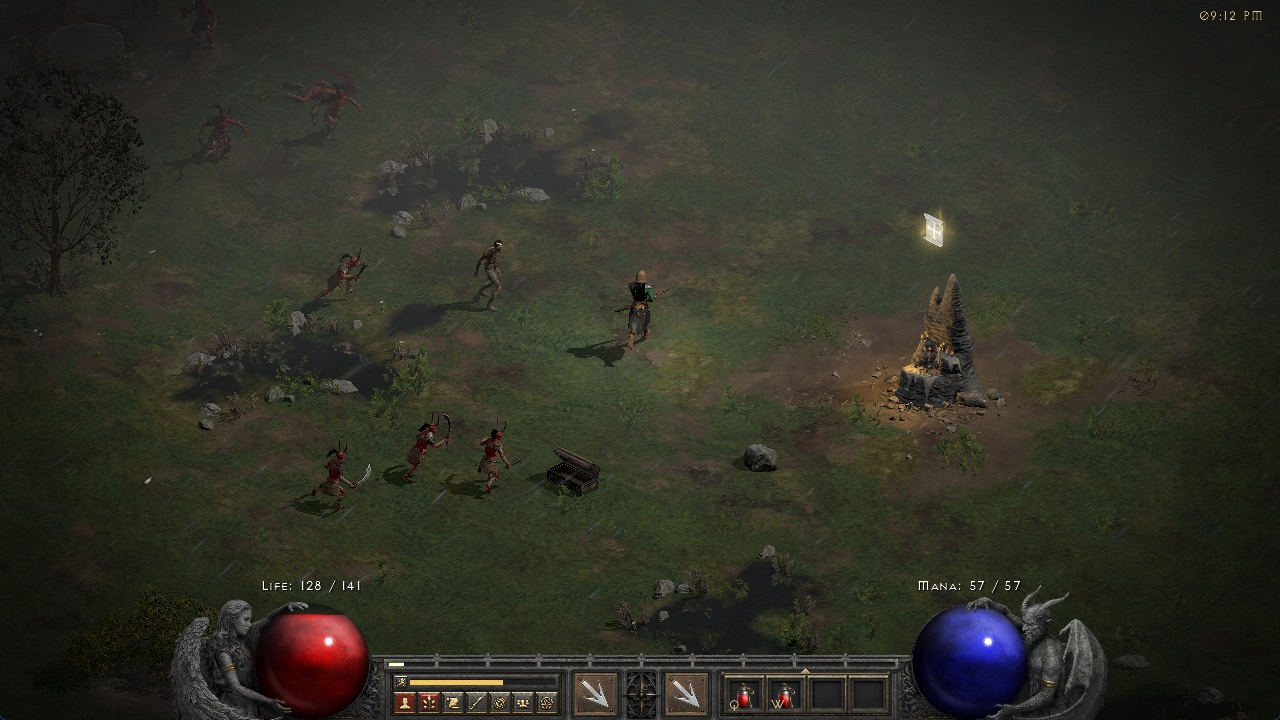fallen: (310, 438, 371, 512), (310, 243, 373, 306), (399, 408, 455, 478), (302, 83, 367, 141), (473, 414, 519, 489), (196, 100, 253, 157), (178, 1, 226, 54)
